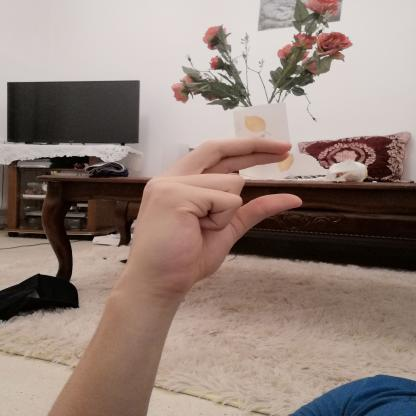DHELL: (115, 129, 310, 294)
